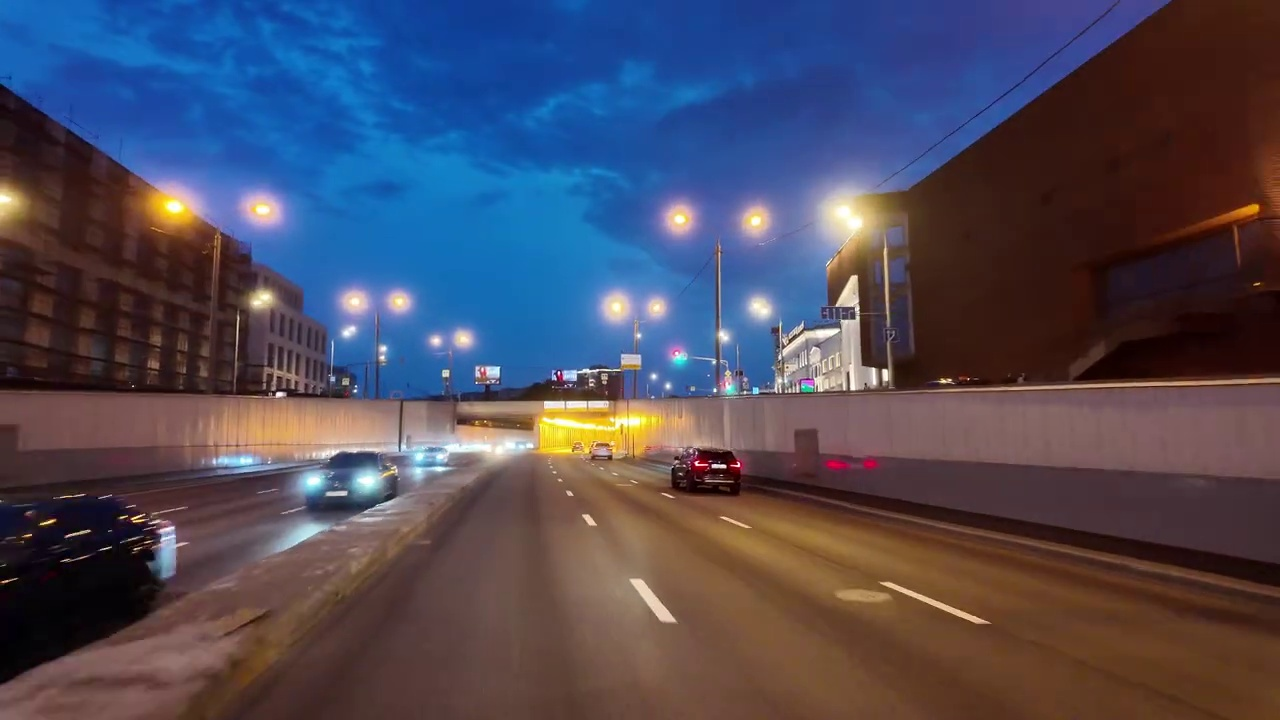acesa: (147, 188, 194, 230), (830, 197, 873, 239), (0, 184, 23, 228), (740, 205, 771, 236), (666, 203, 694, 233), (246, 196, 277, 222), (247, 286, 276, 312), (604, 293, 629, 319), (747, 294, 773, 319), (341, 289, 365, 314), (387, 290, 412, 313), (645, 298, 668, 318), (452, 329, 475, 349)
